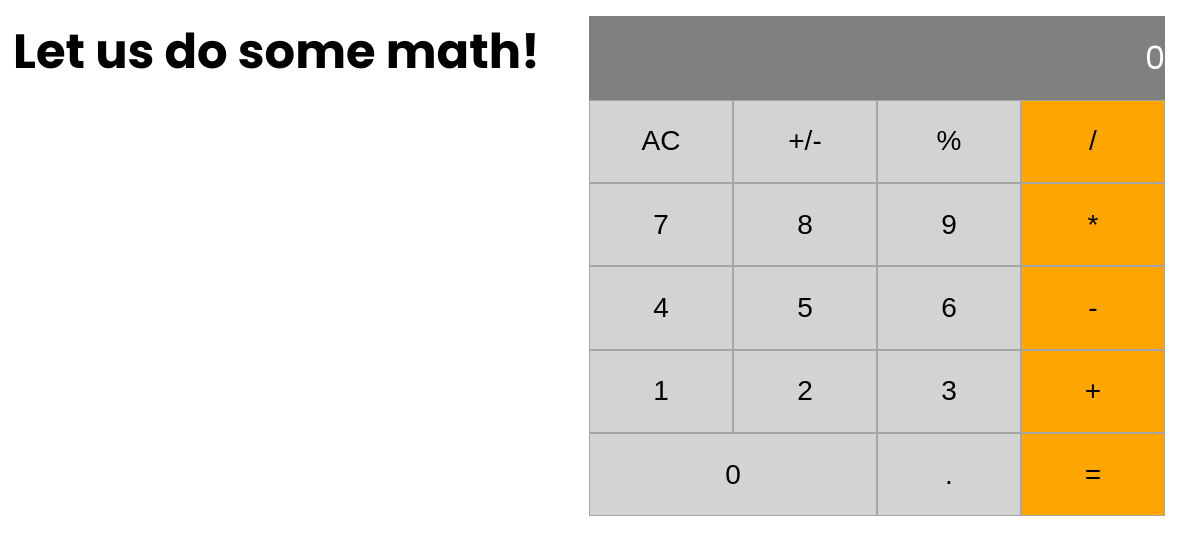
Test: Calculator › should handle decimal point correctly when "." is clicked
Click the button "." at [949, 474], box [877,433,1021,516]
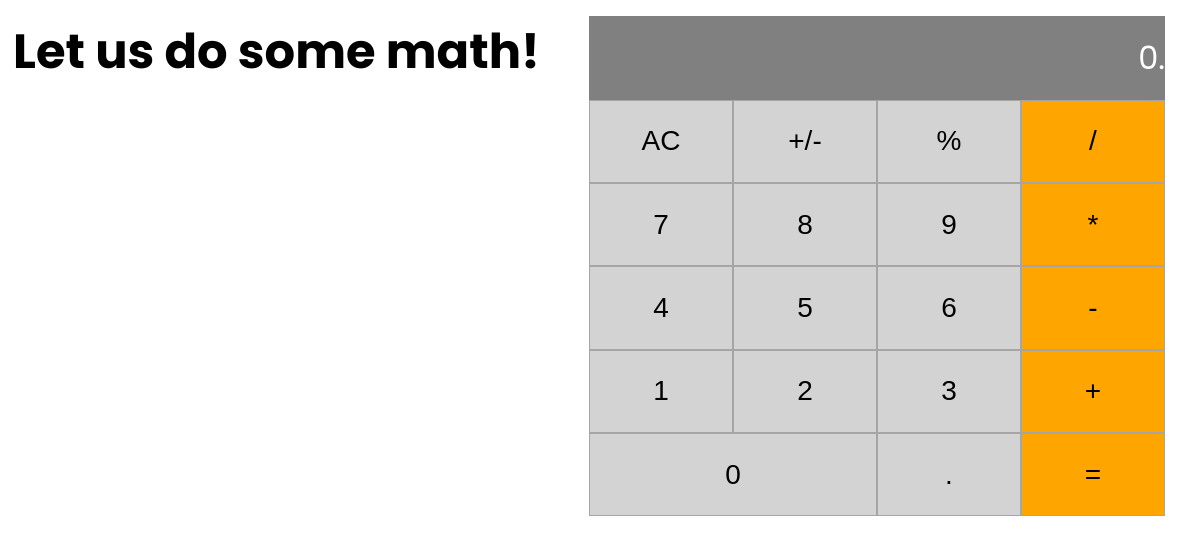
Click the button "5" at [805, 308], box [733,266,877,350]
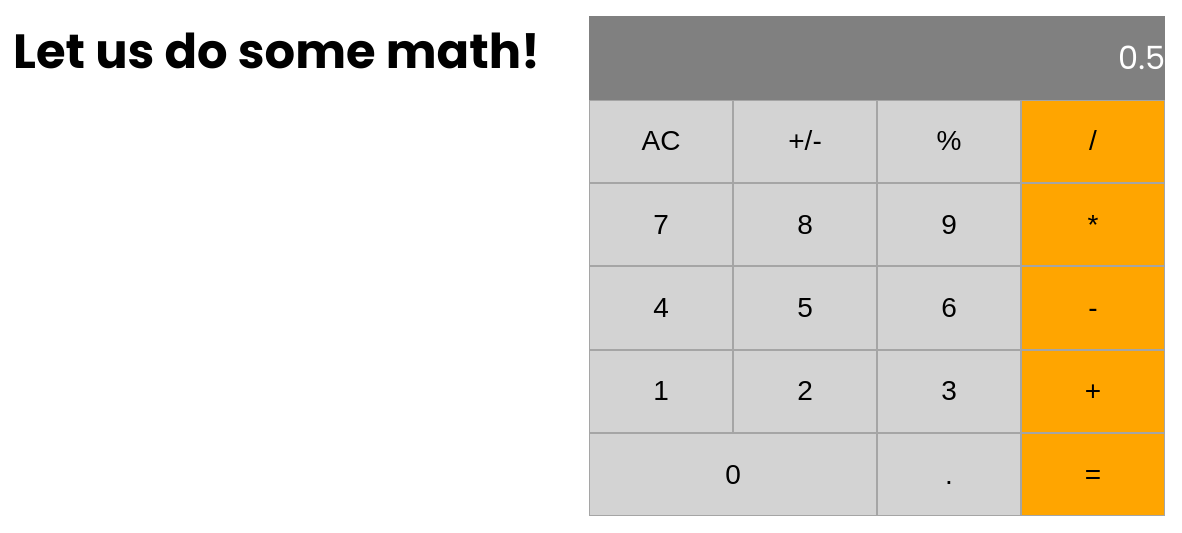
Click the button "2" at [805, 391], box [733,350,877,433]
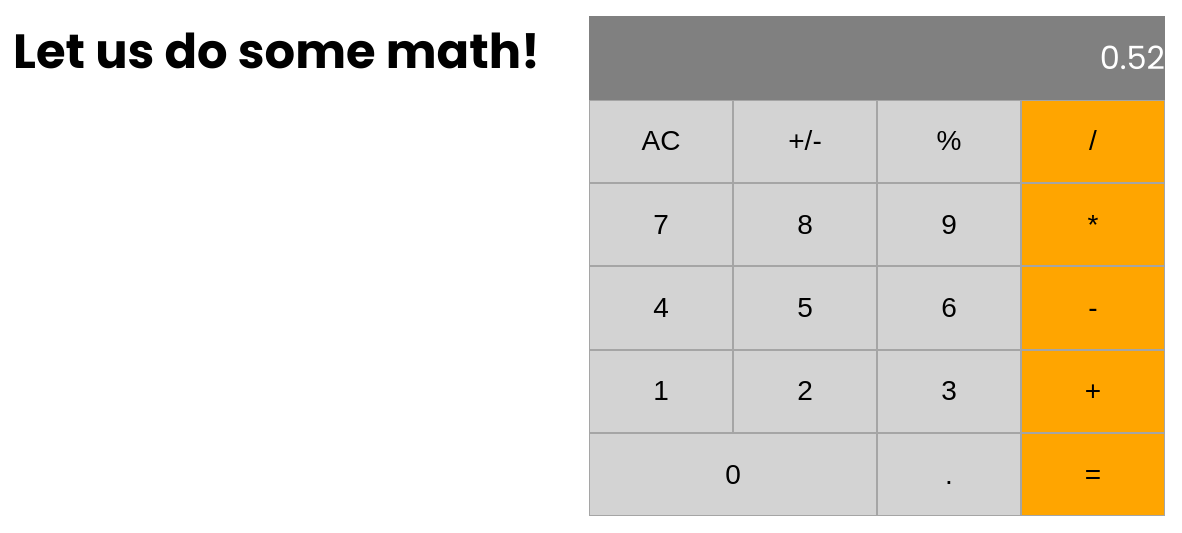
expect the text with test id "displayElement" reads "0.52": met, box [1100,35,1165,80]
